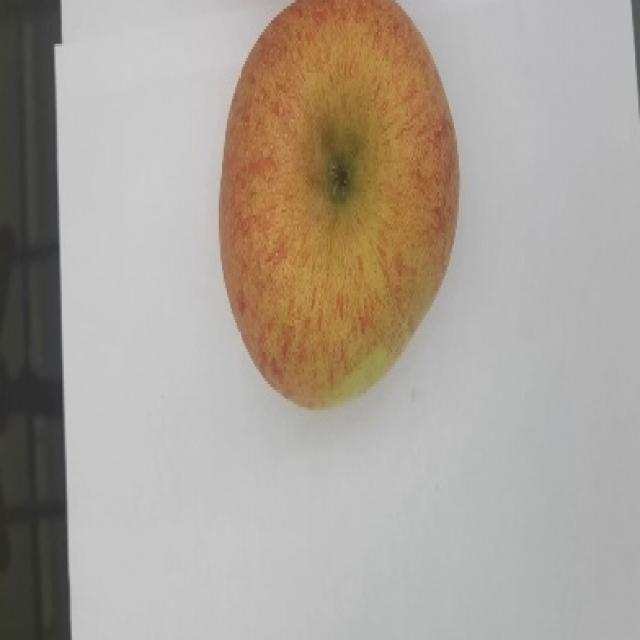Apple: (217, 0, 460, 410)
